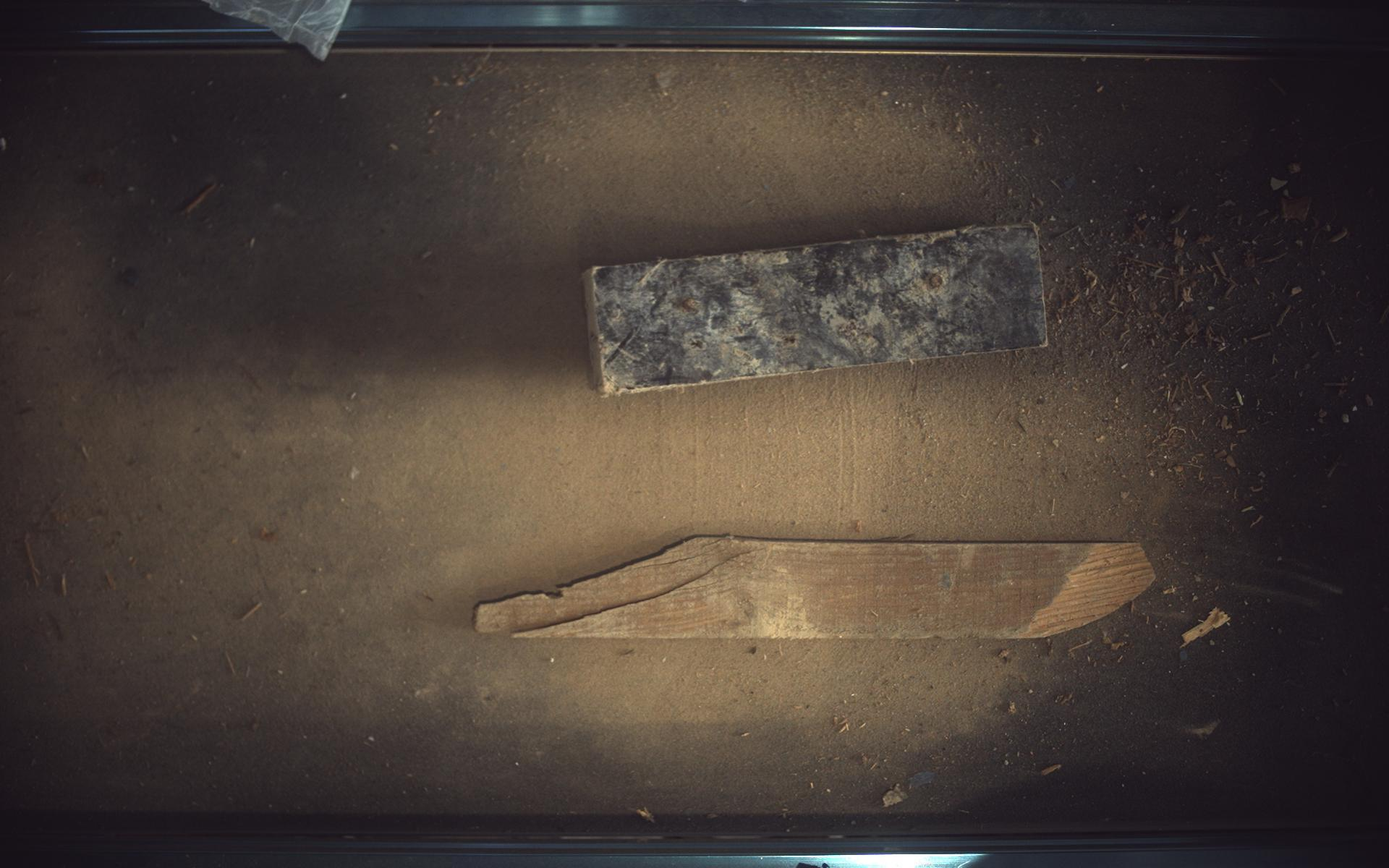wood: (584, 224, 1050, 393), (475, 537, 1158, 640)
